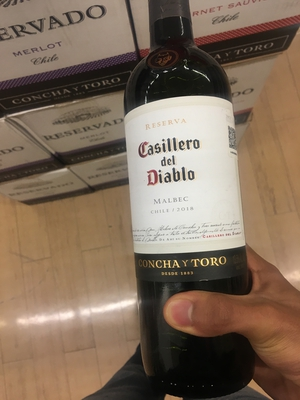casillero del diablo malbec: (119, 29, 271, 392)
